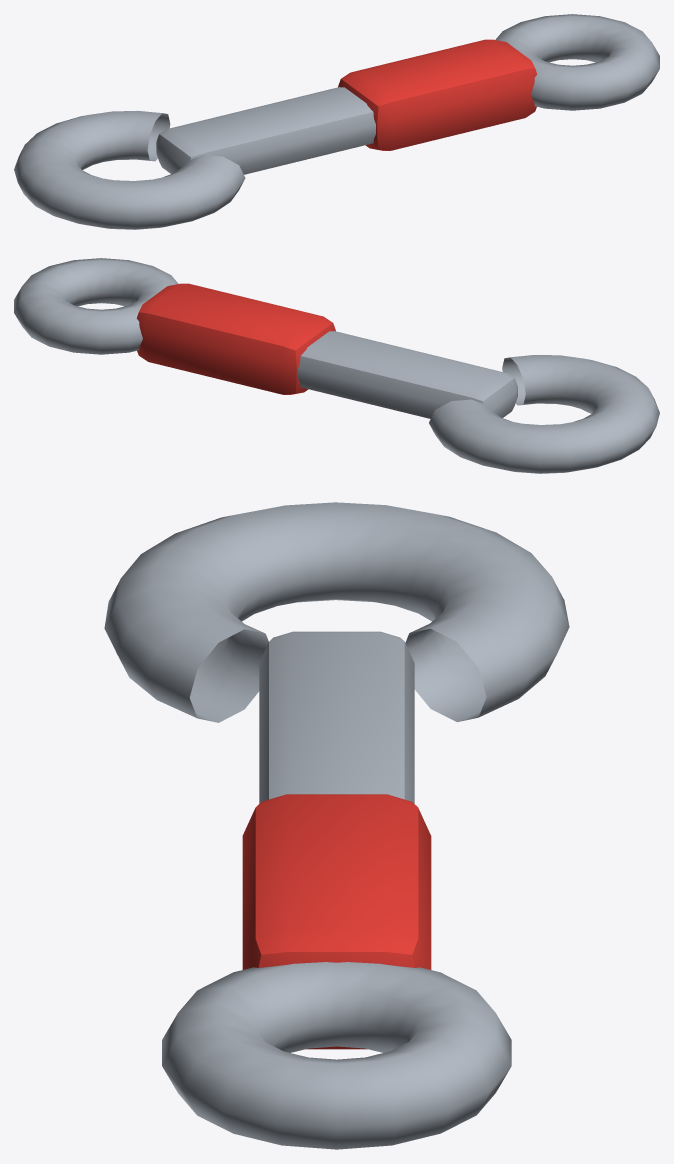
The model's file is Wrench.fbx.
3 renders of one model, top to bottom at view 1: azimuth 30°, elevation 25°; view 2: azimuth 150°, elevation 25°; view 3: azimuth 270°, elevation 25°, orthographic. The views are drawn at different scales.
Visible parts, largest first — view 1: Prop_Wrench; view 2: Prop_Wrench; view 3: Prop_Wrench.
Part boxes in pixels (bbox=[...]): Prop_Wrench: bbox=[14, 14, 659, 229]; Prop_Wrench: bbox=[14, 258, 659, 473]; Prop_Wrench: bbox=[104, 502, 569, 1149].
Bounding box in the file's own units: 0.645 × 0.06 × 0.2096.
